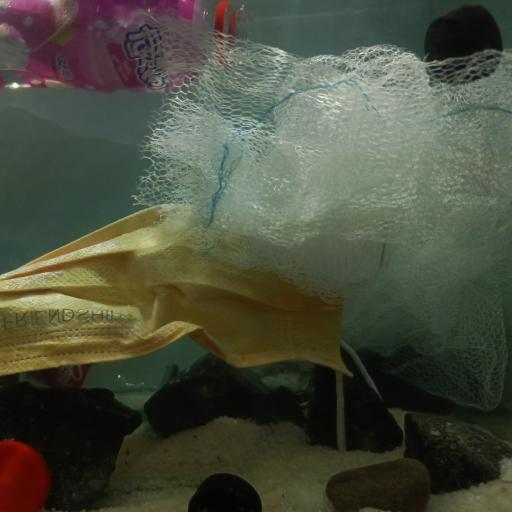bottle_cap: (425, 5, 502, 86), (0, 440, 49, 512), (189, 471, 263, 512)
mask: (1, 199, 362, 382)
net: (135, 27, 512, 414)
plastic_bottle: (0, 0, 242, 94), (1, 328, 189, 396)
